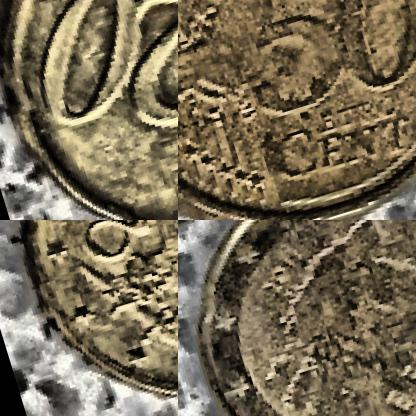coin: (178, 0, 415, 219), (178, 220, 415, 415), (0, 0, 177, 219), (0, 220, 177, 415)
